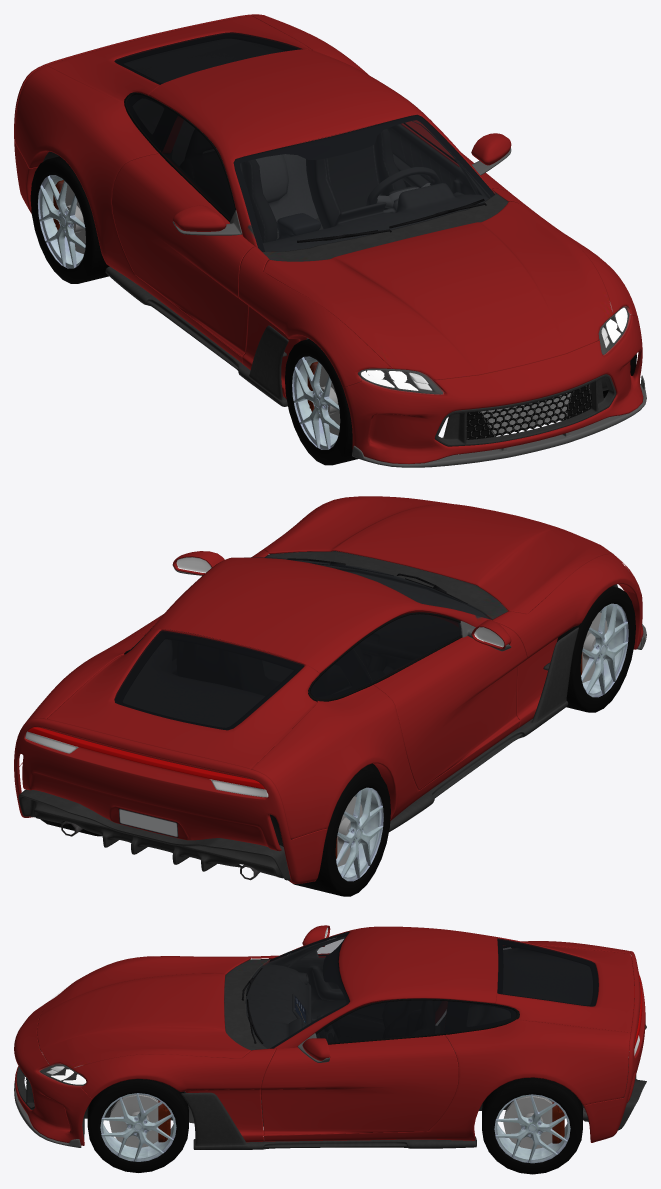
File: generic-sport-coupe.glb
3 views of the same model, one above another, from view 1: azimuth 30°, elevation 25°; view 2: azimuth 150°, elevation 25°; view 3: azimuth 270°, elevation 25° (orthographic). The views are drawn at different scales.
Visible parts, largest first — view 1: paint, interior, glass, body_trim, glass_tinted, trim, tyre_rr, tyre_fr, rim_fr, rim_rr, grille, headlight_lens (+4 smaller); view 2: paint, glass_tinted, interior, body_trim, tyre_rr, trim, tyre_fr, rim_rr, rim_fr, glass, taillight, rubber (+4 smaller); view 3: paint, interior, glass_tinted, body_trim, glass, tyre_rl, tyre_fl, trim, rim_rl, rim_fl, brake_disc_fl, brake_disc_rl (+4 smaller).
Part boxes in pixels (bbox=[...]): paint: bbox=[14, 14, 643, 463]; interior: bbox=[125, 39, 496, 251]; glass: bbox=[234, 115, 494, 251]; body_trim: bbox=[105, 147, 646, 467]; glass_tinted: bbox=[114, 32, 302, 220]; trim: bbox=[115, 34, 494, 251]; tyre_rr: bbox=[30, 156, 109, 283]; tyre_fr: bbox=[285, 339, 358, 465]; rim_fr: bbox=[292, 356, 339, 449]; rim_rr: bbox=[38, 175, 85, 268]; grille: bbox=[466, 384, 591, 439]; headlight_lens: bbox=[358, 306, 629, 394]; paint: bbox=[14, 496, 643, 883]; glass_tinted: bbox=[114, 612, 461, 730]; interior: bbox=[123, 571, 488, 727]; body_trim: bbox=[18, 551, 646, 880]; tyre_rr: bbox=[289, 769, 390, 896]; trim: bbox=[115, 558, 467, 730]; tyre_fr: bbox=[557, 586, 635, 712]; rim_rr: bbox=[336, 787, 383, 881]; rim_fr: bbox=[581, 603, 628, 697]; glass: bbox=[244, 557, 492, 619]; taillight: bbox=[27, 727, 265, 789]; rubber: bbox=[124, 612, 462, 701]; paint: bbox=[14, 925, 645, 1145]; interior: bbox=[246, 936, 592, 1125]; glass_tinted: bbox=[316, 938, 598, 1042]; body_trim: bbox=[14, 948, 646, 1149]; glass: bbox=[245, 932, 349, 1048]; tyre_rl: bbox=[482, 1077, 582, 1174]; tyre_fl: bbox=[87, 1079, 188, 1172]; trim: bbox=[241, 931, 597, 1048]; rim_rl: bbox=[494, 1094, 570, 1163]; rim_fl: bbox=[100, 1093, 176, 1161]; brake_disc_fl: bbox=[109, 1094, 158, 1147]; brake_disc_rl: bbox=[503, 1096, 552, 1149].
Bounding box in the file's own units: 2.27 × 1.35 × 4.73.
Materials: 20 (10 with a texture image).
